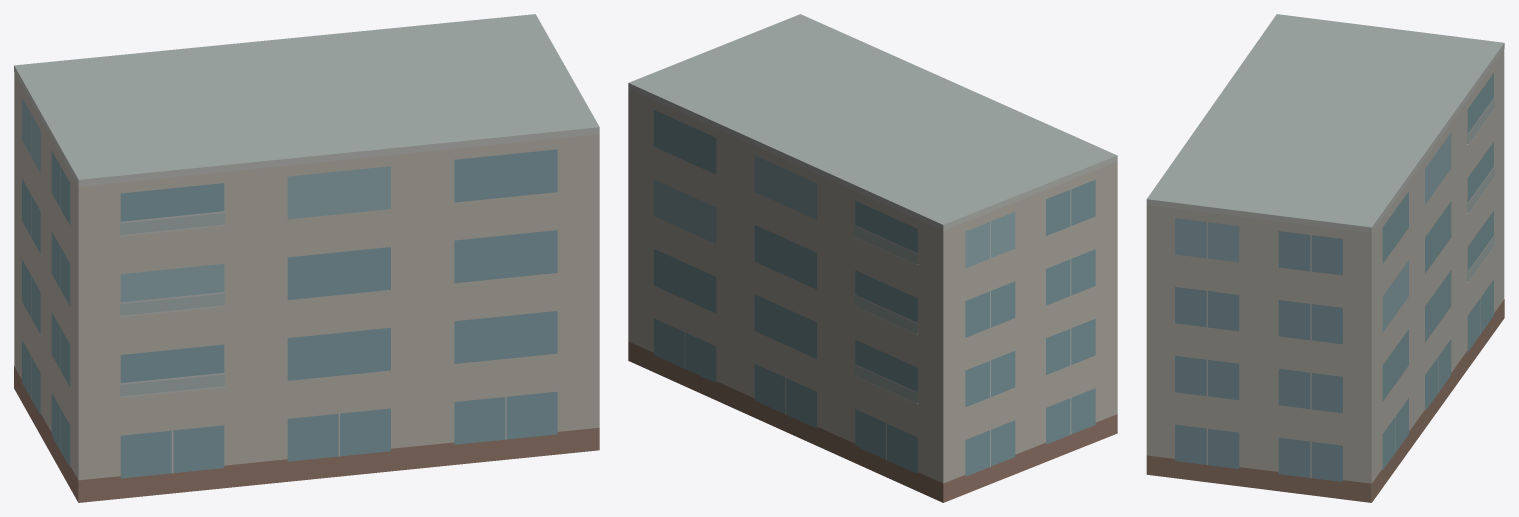
The model's file is survey-upis-32872738.glb.
3 views of the same model, side by side, from view 1: azimuth 30°, elevation 25°; view 2: azimuth 150°, elevation 25°; view 3: azimuth 270°, elevation 25° (orthographic). The views are drawn at different scales.
Visible parts, largest first — view 1: survey-upis-32872738.tmp; view 2: survey-upis-32872738.tmp; view 3: survey-upis-32872738.tmp.
Part boxes in pixels (x1,y1,x2,y2): survey-upis-32872738.tmp: [14, 14, 599, 502]; survey-upis-32872738.tmp: [628, 14, 1117, 502]; survey-upis-32872738.tmp: [1146, 14, 1504, 502].
Bounding box in the file's own units: 19.28 × 11.6 × 13.66.
